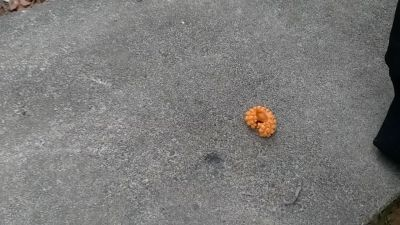eggs: (244, 104, 279, 138)
